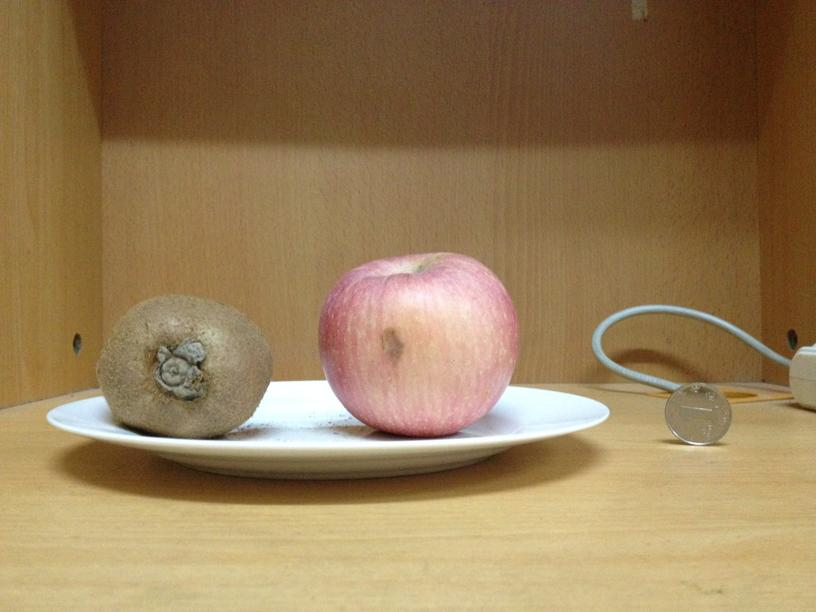apple: (320, 257, 518, 436)
coin: (662, 382, 730, 445)
qiwi: (96, 293, 272, 437)
